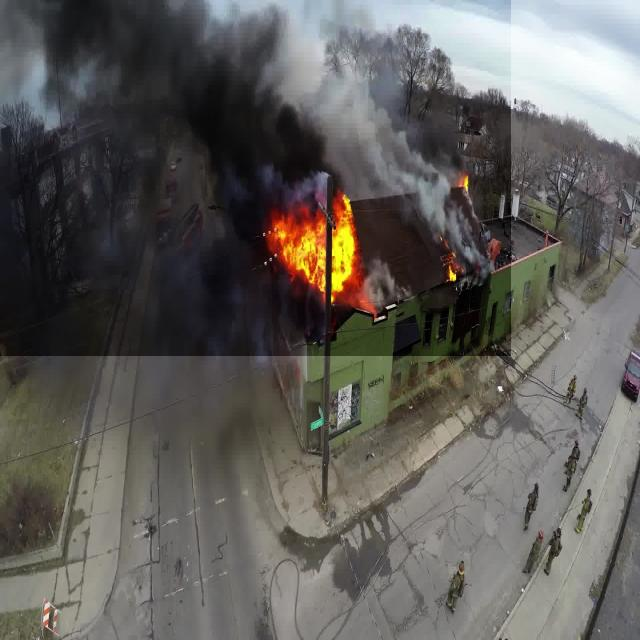Fire: (268, 190, 382, 317), (442, 170, 476, 283)
Smoke: (0, 0, 511, 356)
